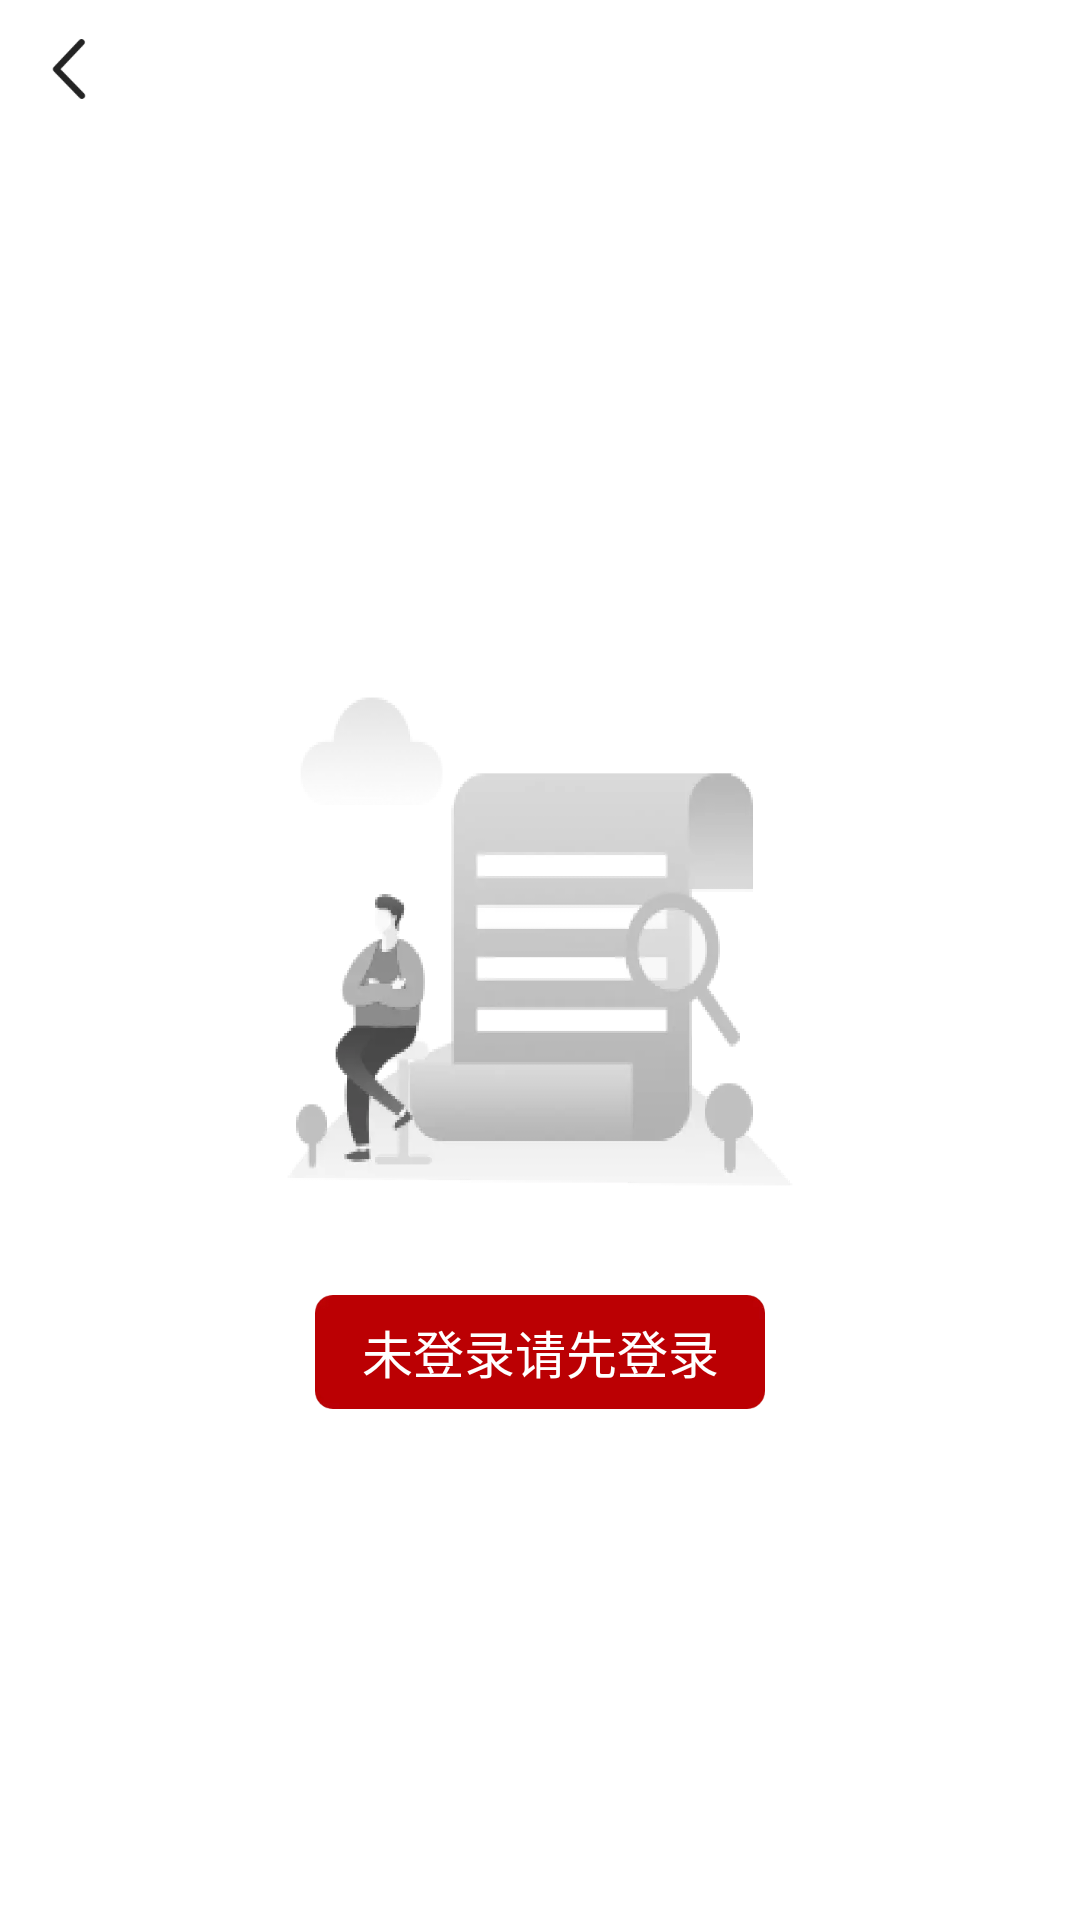

Icon click points for this 1080 x 1920 phone screenshot, format [x,y]:
arrow left: [69,69]
